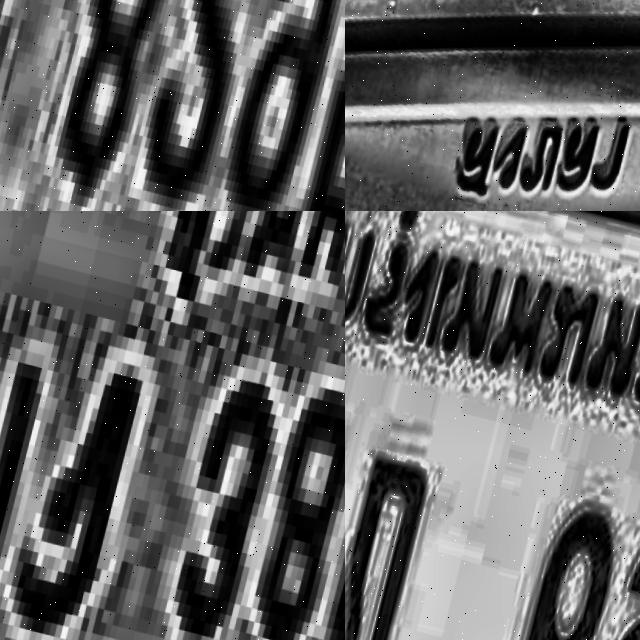license-plate: (0, 211, 345, 640), (345, 211, 640, 640), (0, 0, 345, 211), (345, 0, 640, 211)
